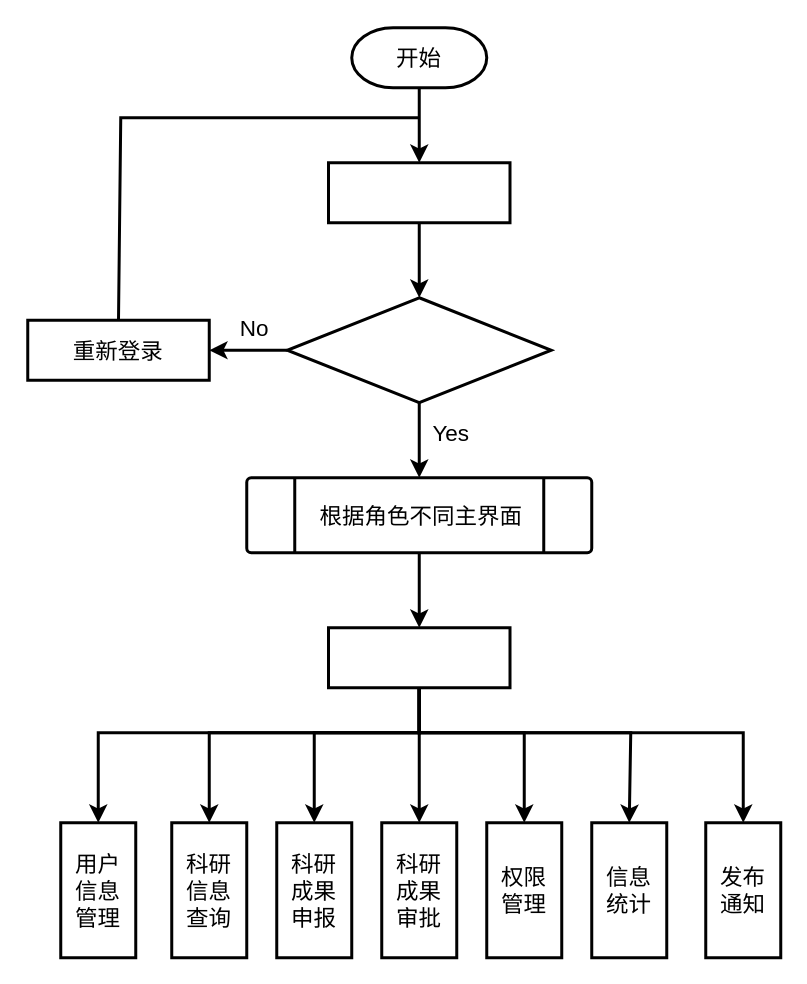
Image size: 807x984. Some labels were removed from this diagram. The box of each missing label's shape, as (x1, y1, x2, y2) in pixels:
主界面: (326, 626, 511, 688)
用户登录: (326, 160, 511, 224)
验证账号信息: (285, 296, 552, 404)
